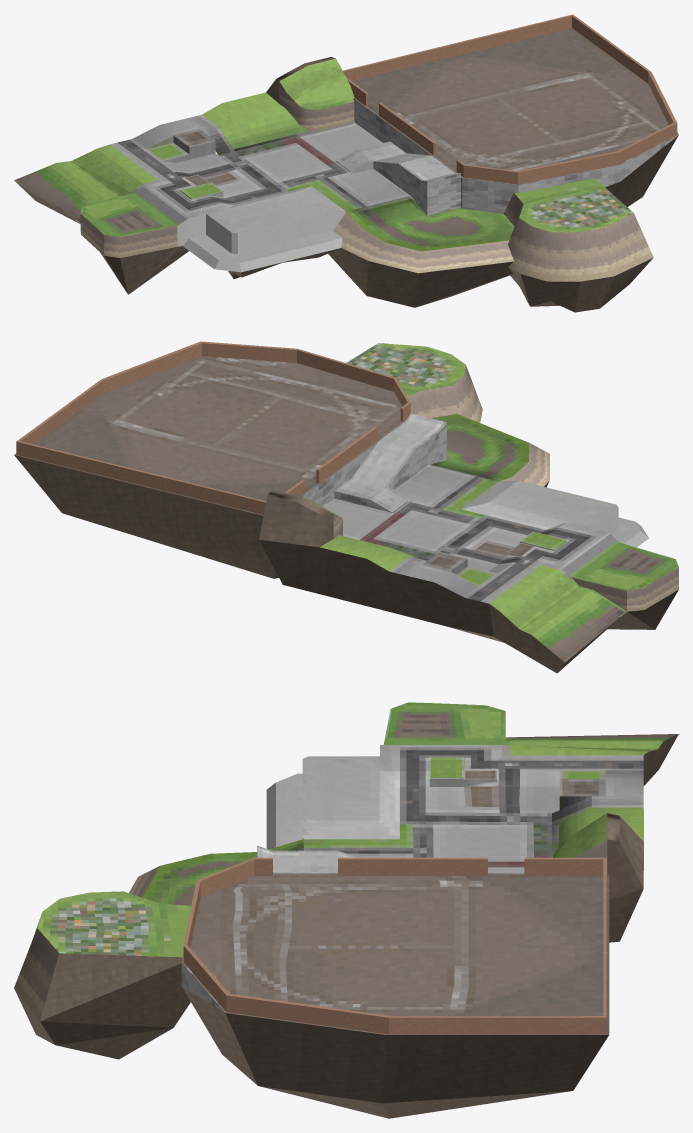
The model's file is 059b_Old_Urchinville.glb.
3 views of the same model, one above another, from view 1: azimuth 30°, elevation 25°; view 2: azimuth 150°, elevation 25°; view 3: azimuth 270°, elevation 25° (orthographic). The views are drawn at different scales.
Parts seen in each view (by area): view 1: part_0; view 2: part_0; view 3: part_0.
Boxes of the visible parts, left/top/right/bottom form: part_0: left=14, top=14, right=678, bottom=312; part_0: left=14, top=341, right=678, bottom=673; part_0: left=14, top=702, right=678, bottom=1118.
Size of the model in its own units: 143 by 36.3 by 110.
Materials: 1 (1 with a texture image).
